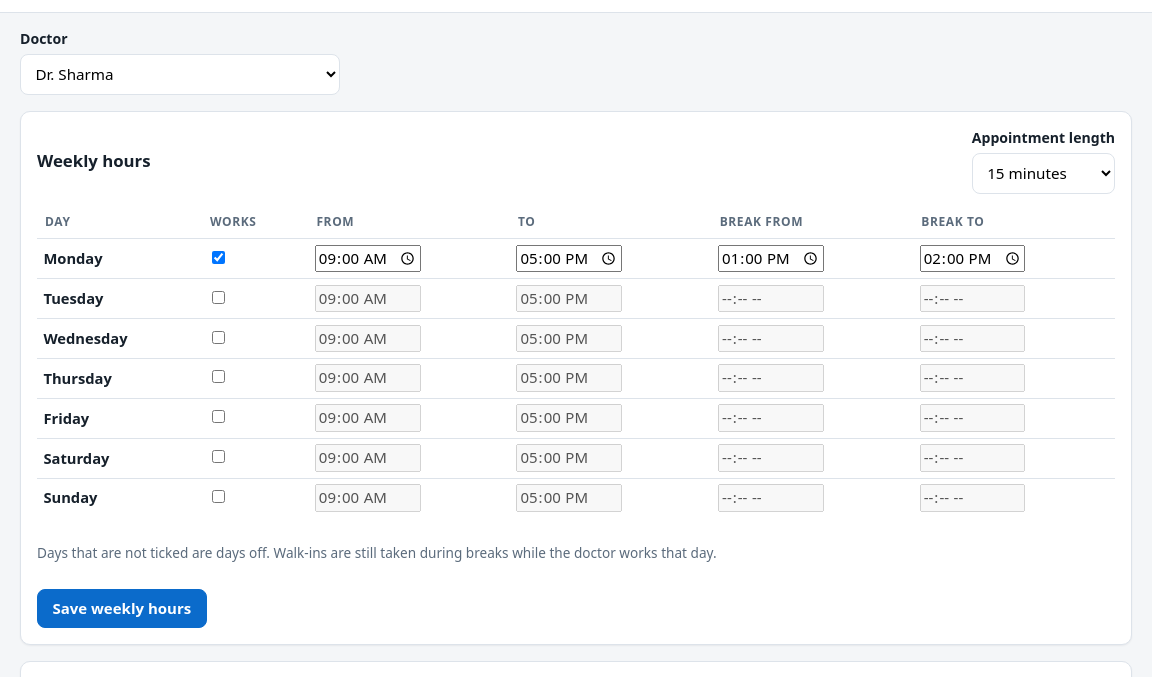
ScheduleEditor › loads each doctor's own schedule
expect the heading "Weekly hours" is shown: met, box left=37, top=151, right=151, bottom=171
Select "Dr. Mehta" in the dropdown labelled "Doctor". click: (180, 74)
box: left=20, top=54, right=340, bottom=95
(page scrolled)
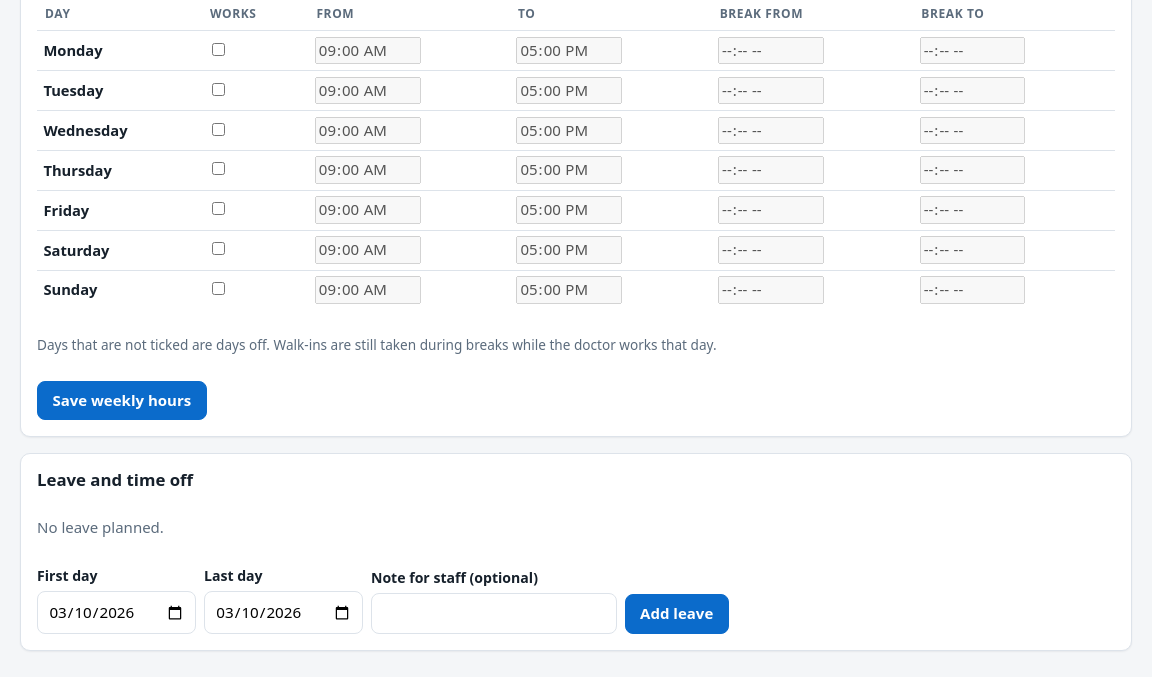
expect the checkbox named "Monday: works" is not checked: met, box left=212, top=43, right=225, bottom=56
expect the text "No leave planned." is shown: met, box left=37, top=517, right=164, bottom=537
